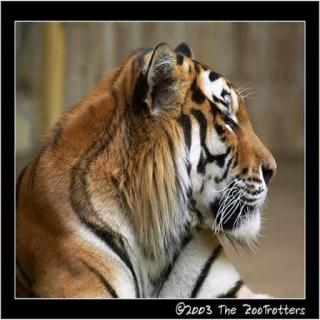Tiger: (16, 40, 281, 301)
